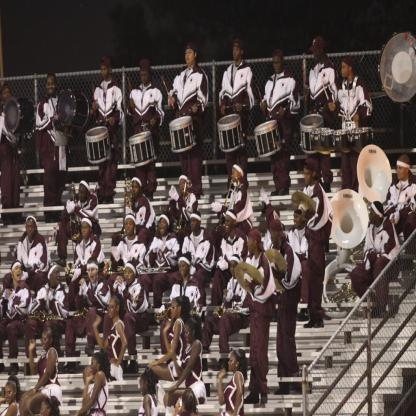face: (91, 355, 101, 375), (108, 298, 117, 320), (140, 378, 150, 397), (42, 330, 51, 351), (48, 77, 57, 96), (304, 167, 313, 186), (397, 162, 406, 181), (125, 267, 134, 286), (89, 265, 98, 283), (274, 56, 283, 73), (27, 221, 36, 238), (270, 228, 279, 245), (14, 265, 23, 282), (230, 260, 239, 277), (8, 384, 15, 405), (369, 206, 377, 224), (228, 354, 236, 372), (185, 324, 192, 344), (53, 268, 61, 285), (180, 261, 188, 278), (101, 64, 110, 79), (186, 49, 195, 64), (126, 220, 135, 235), (171, 301, 178, 320), (234, 44, 242, 60), (226, 216, 234, 232), (294, 213, 302, 229), (41, 400, 49, 416), (82, 223, 90, 238), (180, 180, 188, 195), (342, 62, 349, 79), (141, 70, 149, 84), (133, 182, 140, 198), (191, 217, 199, 231), (232, 169, 239, 185), (314, 47, 321, 62), (79, 186, 86, 201), (160, 220, 167, 235), (4, 89, 12, 102), (248, 236, 254, 252)
